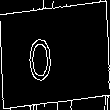O_N: (42, 27, 68, 83)
